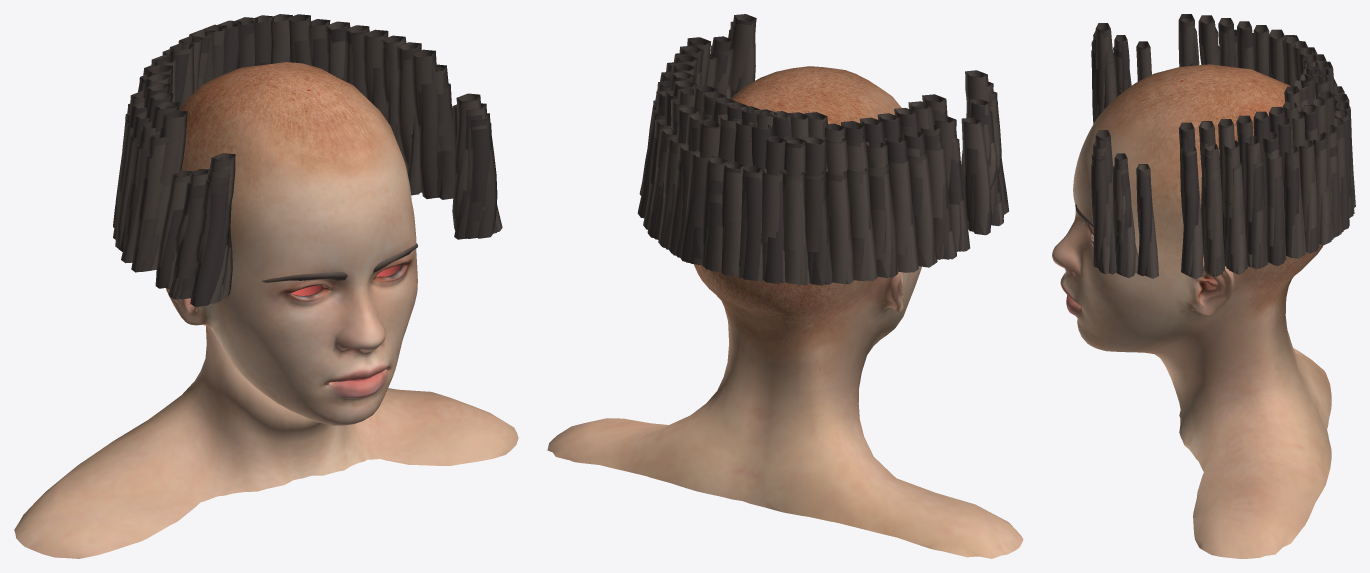
The model's file is morph-head-clone.glb.
3 views of the same model, side by side, from view 1: azimuth 30°, elevation 25°; view 2: azimuth 150°, elevation 25°; view 3: azimuth 270°, elevation 25° (orthographic). The views are drawn at different scales.
Parts seen in each view (by area): view 1: Sha - MPFB original body mesh_wvrlp_ref, Sha - MPFB original body mesh.long01_wvrlp_ref, Sha - MPFB original body mesh.eyebrow001_wvrlp_ref; view 2: Sha - MPFB original body mesh.long01_wvrlp_ref, Sha - MPFB original body mesh_wvrlp_ref; view 3: Sha - MPFB original body mesh_wvrlp_ref, Sha - MPFB original body mesh.long01_wvrlp_ref.
Part boxes in pixels (x1=…): Sha - MPFB original body mesh_wvrlp_ref: x1=14, y1=62, x2=518, y2=558; Sha - MPFB original body mesh.long01_wvrlp_ref: x1=113, y1=14, x2=502, y2=307; Sha - MPFB original body mesh.eyebrow001_wvrlp_ref: x1=262, y1=243, x2=417, y2=282; Sha - MPFB original body mesh.long01_wvrlp_ref: x1=637, y1=14, x2=1008, y2=285; Sha - MPFB original body mesh_wvrlp_ref: x1=547, y1=66, x2=1023, y2=558; Sha - MPFB original body mesh_wvrlp_ref: x1=1052, y1=64, x2=1331, y2=558; Sha - MPFB original body mesh.long01_wvrlp_ref: x1=1091, y1=14, x2=1355, y2=279.
Size of the model in its own units: 0.3339 by 0.2846 by 0.201.
Materials: 8 (2 with a texture image).
